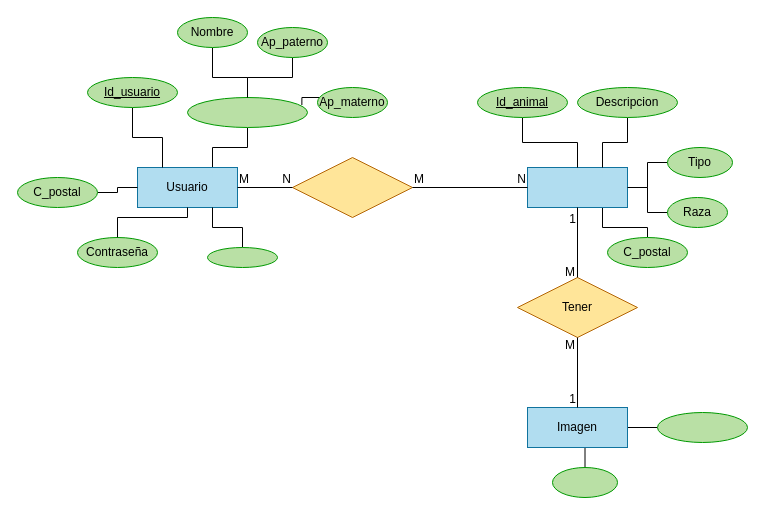
Image size: 765x515. Some labels were removed from this diagram. Each missing label, with the centre of its shape:
Animal: pixel 577 187
Email: pixel 242 257
Id_imagen: pixel 702 427
Nombre_completo: pixel 247 112
Publicar: pixel 352 187
Url: pixel 585 482
